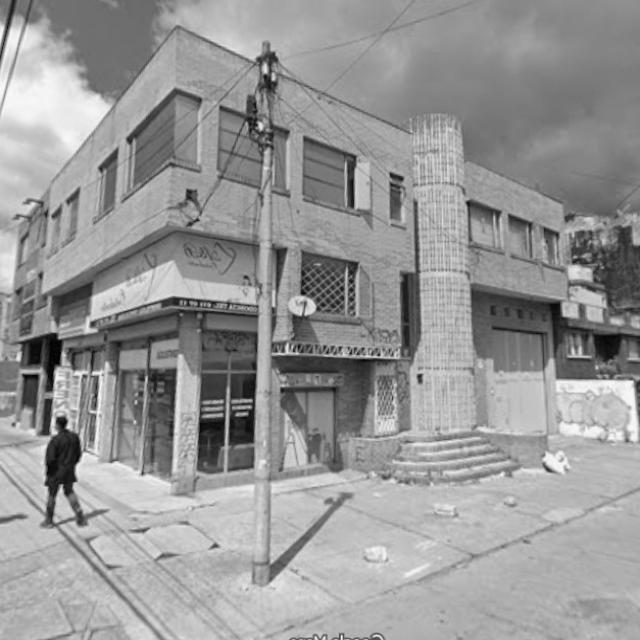Fachada: (272, 75, 568, 483), (11, 29, 266, 493)
Poste: (252, 42, 277, 586)
